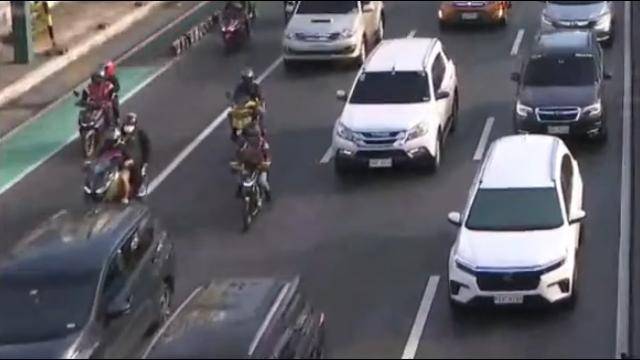car: (0, 211, 175, 360), (447, 135, 582, 318), (331, 38, 458, 182), (133, 274, 322, 360), (514, 27, 608, 136), (276, 0, 388, 67), (538, 2, 618, 47), (439, 1, 512, 29)
motorcycle: (81, 110, 152, 212), (228, 124, 274, 234), (73, 62, 121, 160), (225, 66, 267, 148), (216, 0, 258, 57)
